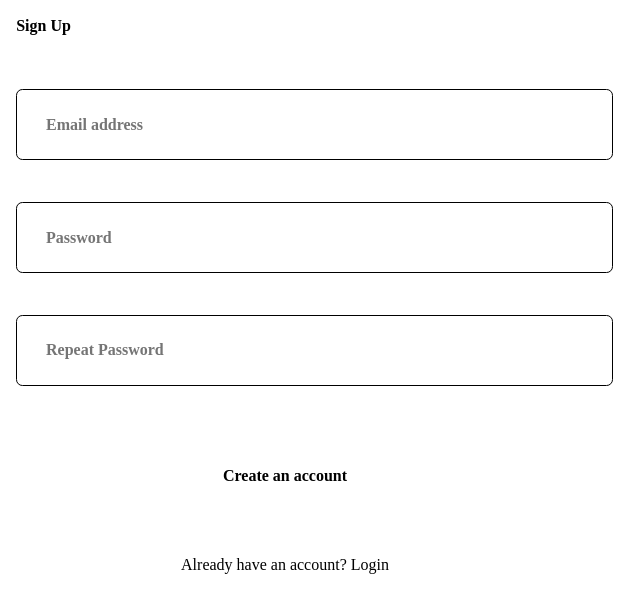
Test: Auth component testing › should change header to "Login" and swither to "singin" after clicking on switcher "login"
Click the text with test id "switcher".
click(370, 564)  # box [351,556,389,573]
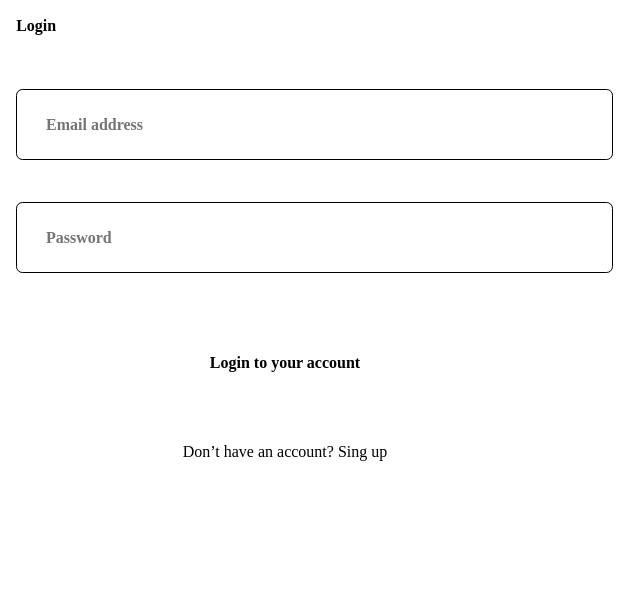
Expected: the heading reads "Login", [16,17,56,34]
Expected: the text with test id "switcher" reads "Sing up", [338,443,387,460]
